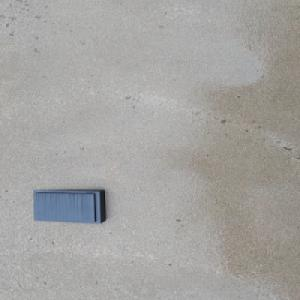PlasticPart: (32, 188, 107, 224)
